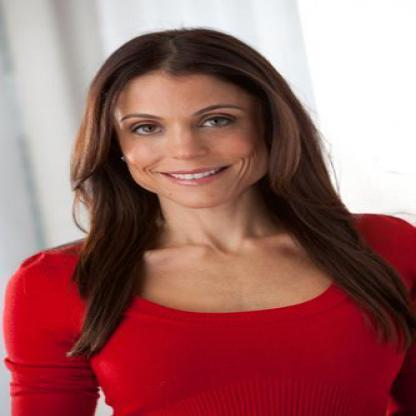long-hair: (68, 208, 364, 260)
